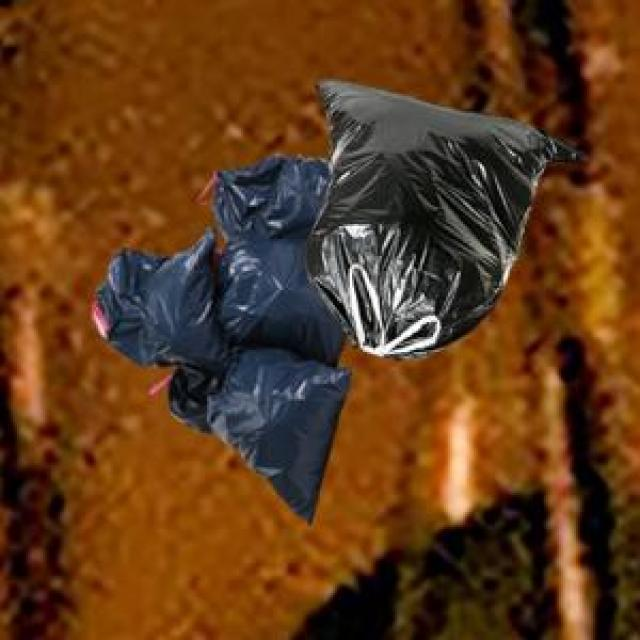waste: (96, 81, 578, 518)
